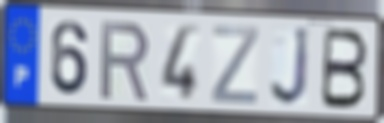4: (158, 21, 202, 104)
6: (50, 19, 91, 98)
B: (318, 25, 371, 112)
J: (268, 25, 311, 109)
R: (98, 17, 153, 103)
Z: (209, 24, 261, 107)
